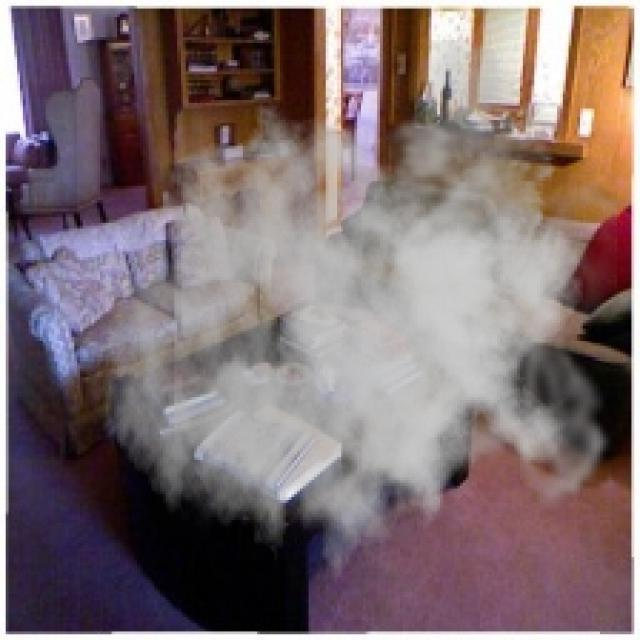Smoke: (102, 40, 618, 603)
